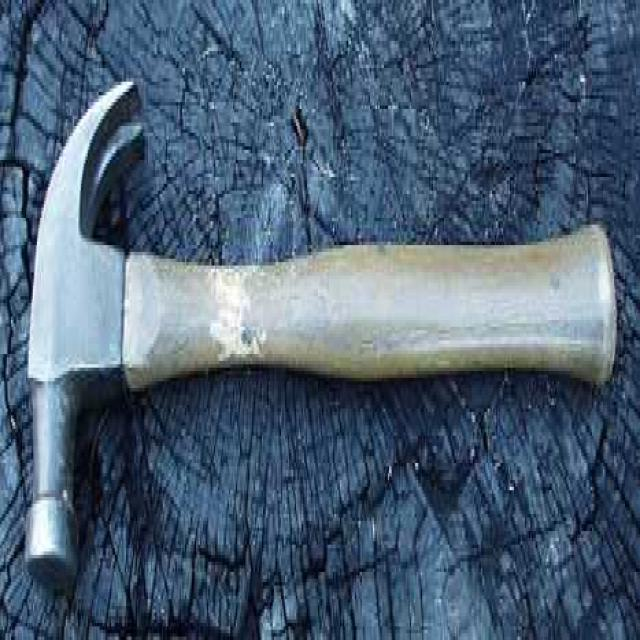hammer: (18, 53, 632, 630)
